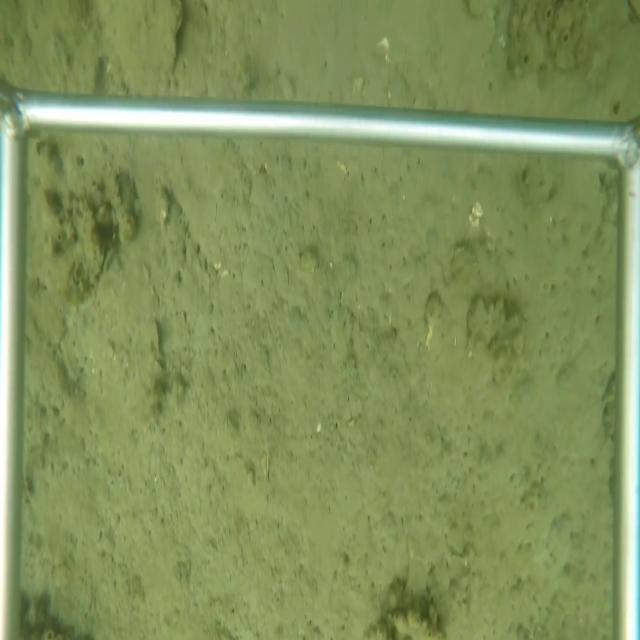Oyster-Open: (84, 238, 116, 294)
